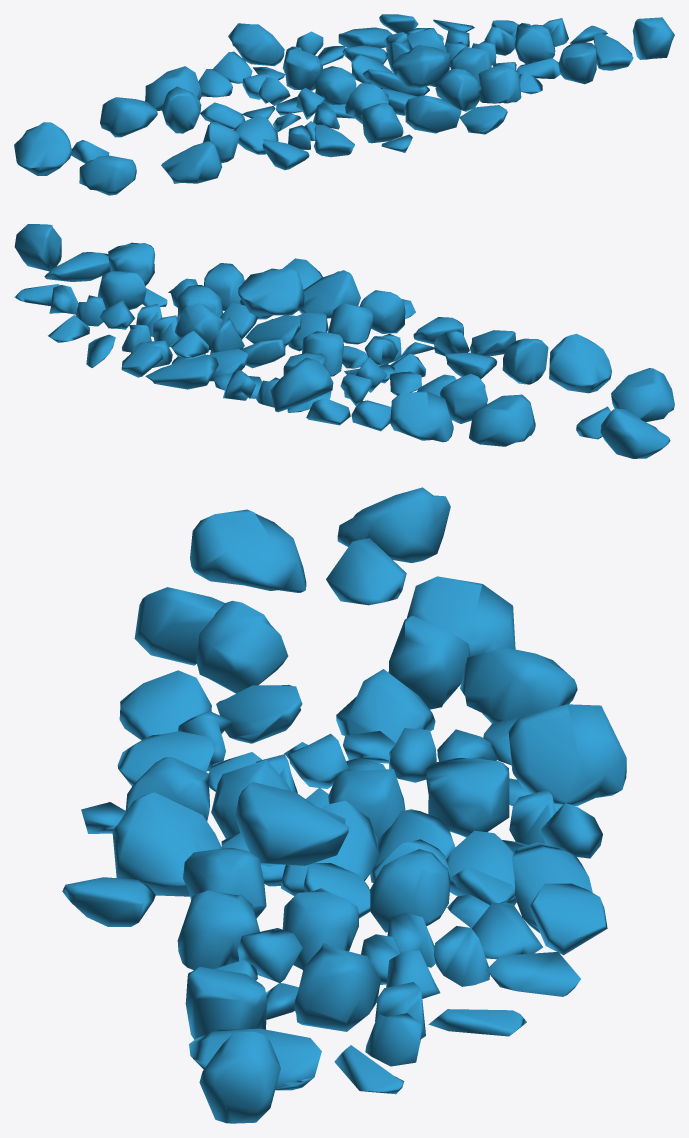
File: Scree_03_Lod1.fbx
3 views of the same model, one above another, from view 1: azimuth 30°, elevation 25°; view 2: azimuth 150°, elevation 25°; view 3: azimuth 270°, elevation 25° (orthographic). The views are drawn at different scales.
Parts seen in each view (by area): view 1: Scree_03_Lod1; view 2: Scree_03_Lod1; view 3: Scree_03_Lod1.
Part boxes in pixels (x1,y1,x2,y2): Scree_03_Lod1: (14,14,674,195); Scree_03_Lod1: (14,224,674,458); Scree_03_Lod1: (62,487,626,1123).
Size of the model in its own units: 2268 by 196 by 903.
